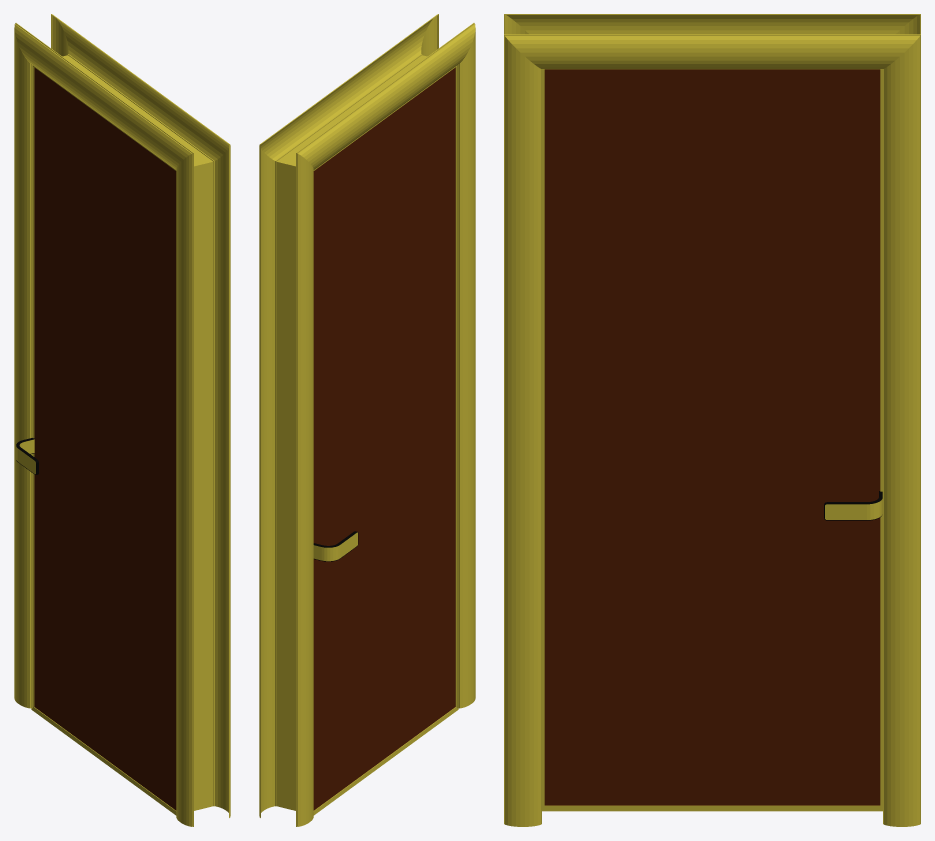
Rendered from Door.FBX.
3 renders of one model, left to right at view 1: azimuth 30°, elevation 25°; view 2: azimuth 150°, elevation 25°; view 3: azimuth 270°, elevation 25°, orthographic. The views are drawn at different scales.
Parts seen in each view (by area): view 1: Rectangle5, Nalichniki, Rectangle0, Ruchka; view 2: Rectangle5, Nalichniki, Rectangle0, Ruchka; view 3: Rectangle5, Nalichniki, Rectangle0, Ruchka.
Boxes of the visible parts, x1,y1,x2,y2 form: Rectangle5: (34,67,176,810); Nalichniki: (14,14,230,826); Rectangle0: (31,65,176,815); Ruchka: (16,438,38,474); Rectangle5: (313,67,455,810); Nalichniki: (259,14,475,826); Rectangle0: (313,65,458,815); Ruchka: (313,531,358,561); Rectangle5: (544,69,880,805); Nalichniki: (504,14,920,826); Rectangle0: (542,69,882,811); Ruchka: (824,491,882,520).
Size of the model in its own units: 19.96 by 209 by 99.6.
